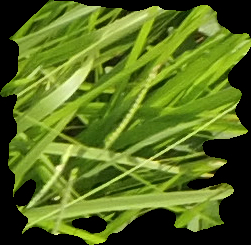grass: (1, 1, 250, 244)
